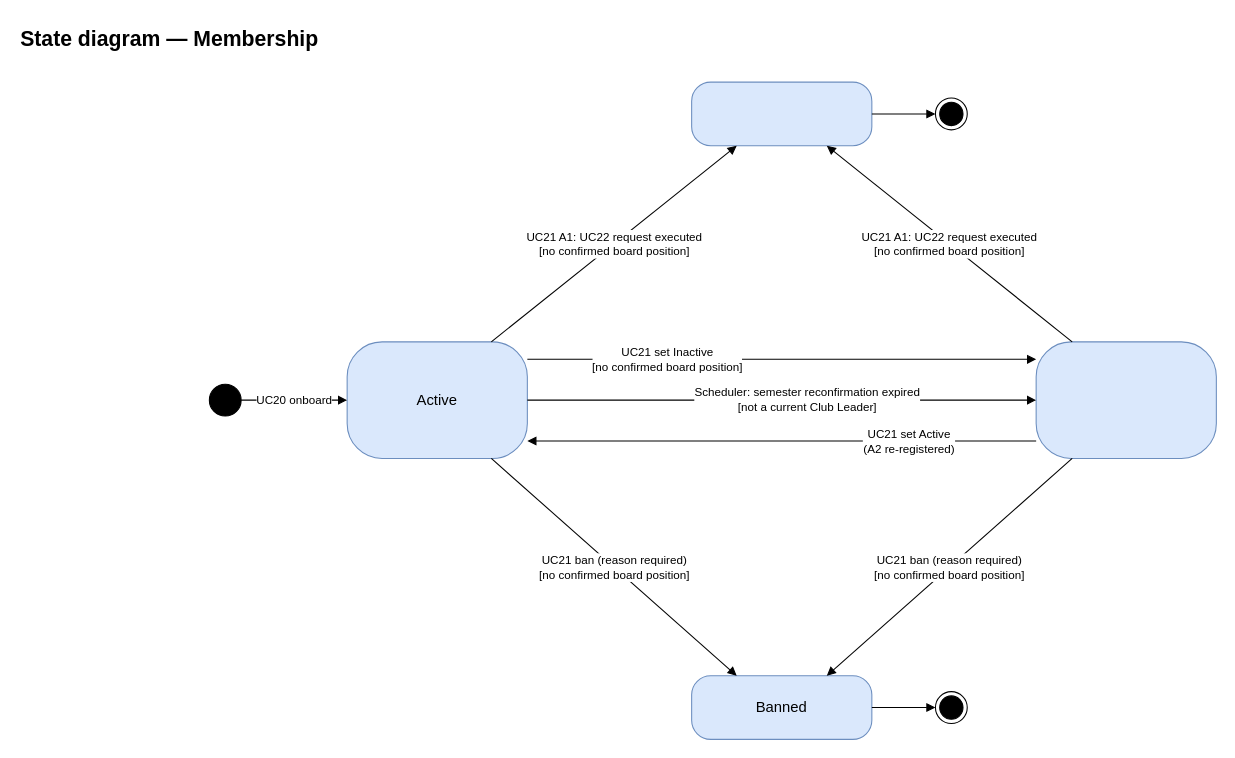
Image size: 1235x758. Some labels were removed from this diagram. The shapes that lost their labels are listed below. From the top down, each one's centre as x and y in pixels, then its label:
the point at 781,113: Left
the point at 1125,399: Inactive
